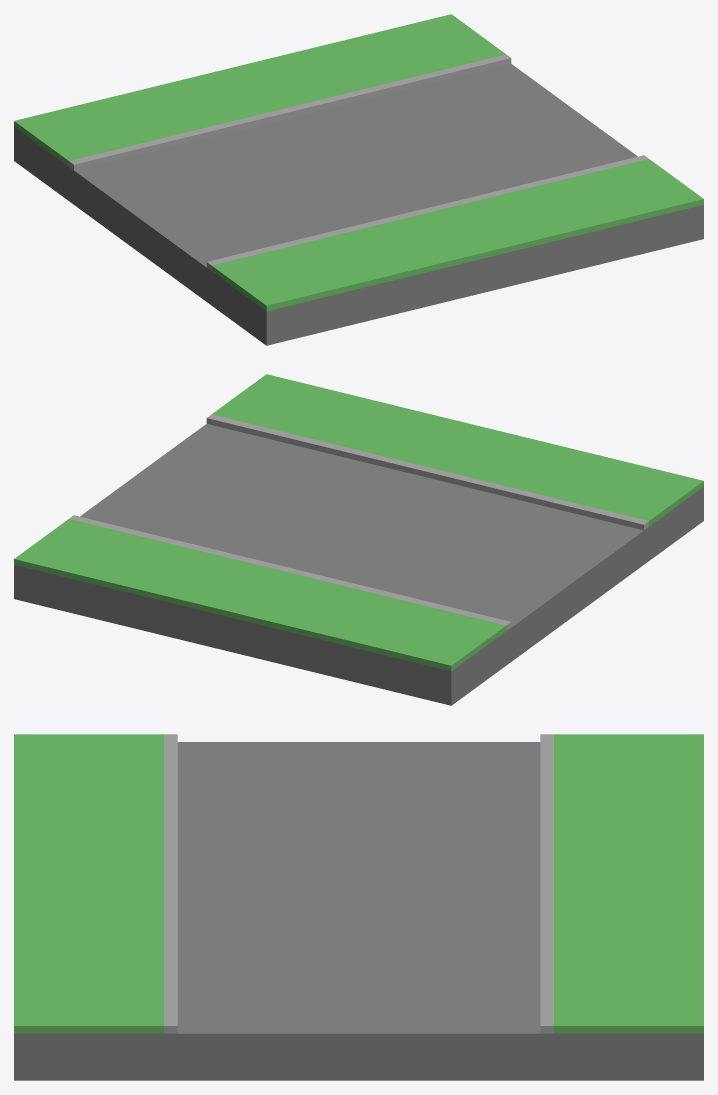
File: straight_colored.fbx
3 renders of one model, top to bottom at view 1: azimuth 30°, elevation 25°; view 2: azimuth 150°, elevation 25°; view 3: azimuth 270°, elevation 25°, orthographic. The views are drawn at different scales.
Parts seen in each view (by area): view 1: Ground, Cube.001, Cube, Cube.002, Cube.003; view 2: Ground, Cube, Cube.001, Cube.003, Cube.002; view 3: Ground, Cube, Cube.001, Cube.002, Cube.003.
Boxes of the visible parts, <box> form: Ground: <box>14,64,703,345</box>; Cube.001: <box>211,159,703,311</box>; Cube: <box>14,14,505,166</box>; Cube.002: <box>69,54,511,170</box>; Cube.003: <box>206,155,648,270</box>; Ground: <box>14,424,703,705</box>; Cube: <box>14,519,506,671</box>; Cube.001: <box>212,374,703,526</box>; Cube.003: <box>206,414,648,530</box>; Cube.002: <box>69,515,511,630</box>; Ground: <box>14,742,703,1080</box>; Cube: <box>554,734,703,1033</box>; Cube.001: <box>14,734,163,1033</box>; Cube.002: <box>540,734,553,1033</box>; Cube.003: <box>164,734,177,1033</box>.
Size of the model in its own units: 800 by 70 by 800.
